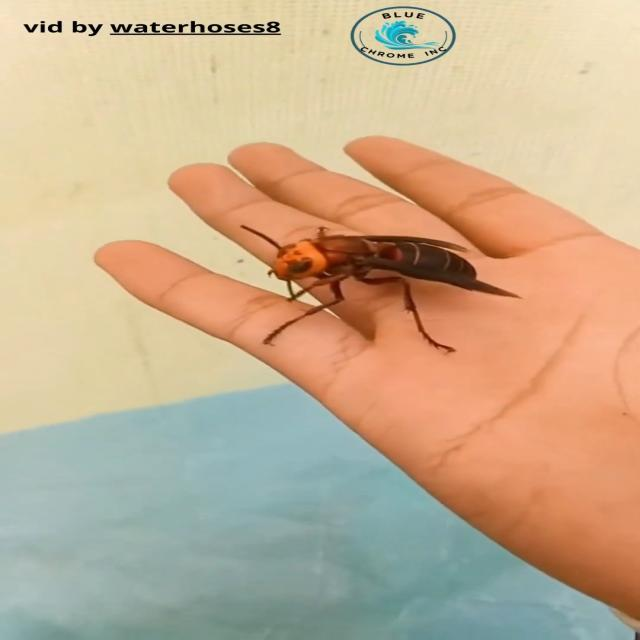Hornets: (238, 222, 526, 353)
